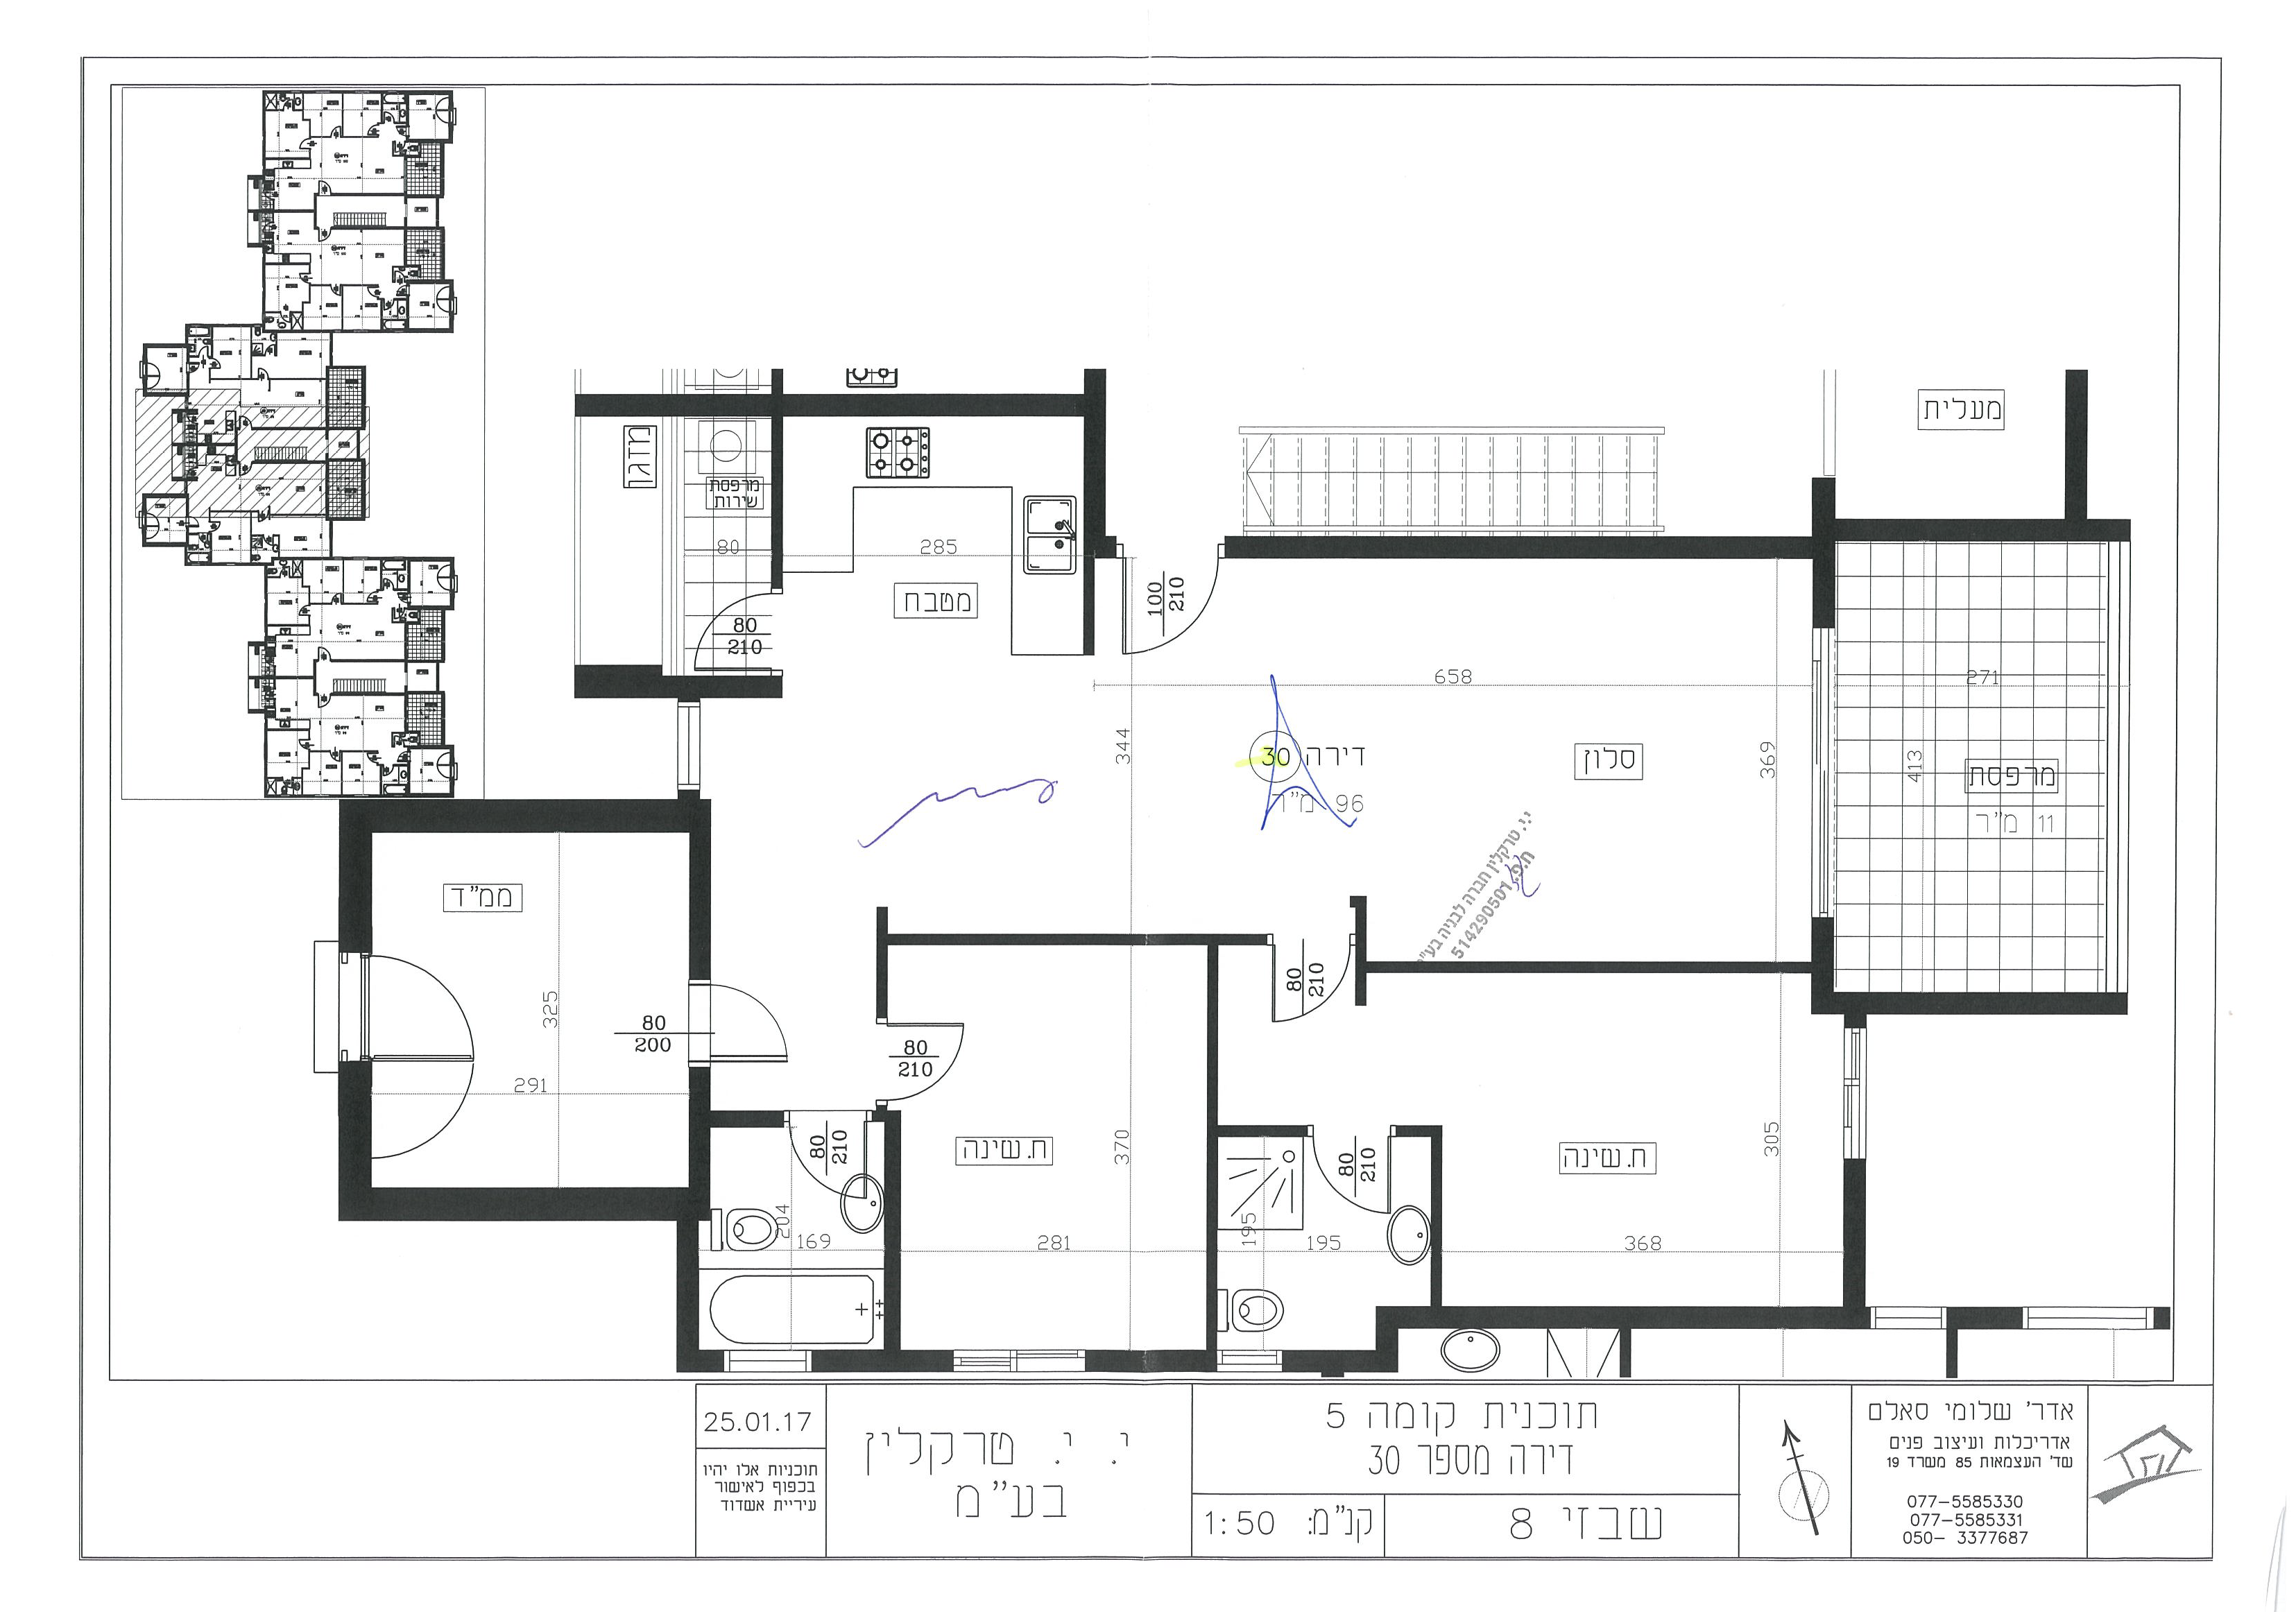door: (1108, 567, 1233, 659), (713, 977, 798, 1075), (891, 1012, 973, 1108), (782, 1126, 870, 1208), (1310, 1138, 1398, 1221), (1265, 954, 1356, 1028)
wall: (1224, 536, 1836, 559), (339, 1187, 713, 1221), (339, 799, 711, 831), (576, 395, 1105, 416), (1374, 1307, 1873, 1328), (1811, 992, 2129, 1015), (1365, 961, 1813, 971), (2066, 372, 2087, 543), (1843, 1159, 1864, 1328), (1813, 480, 1834, 631)
window: (1811, 627, 1838, 917), (339, 954, 371, 1063), (952, 1349, 1087, 1374), (2024, 1307, 2155, 1330), (1845, 1029, 1866, 1159), (722, 1351, 812, 1374), (1869, 1307, 1946, 1333), (1214, 1347, 1282, 1375), (678, 703, 699, 790)
